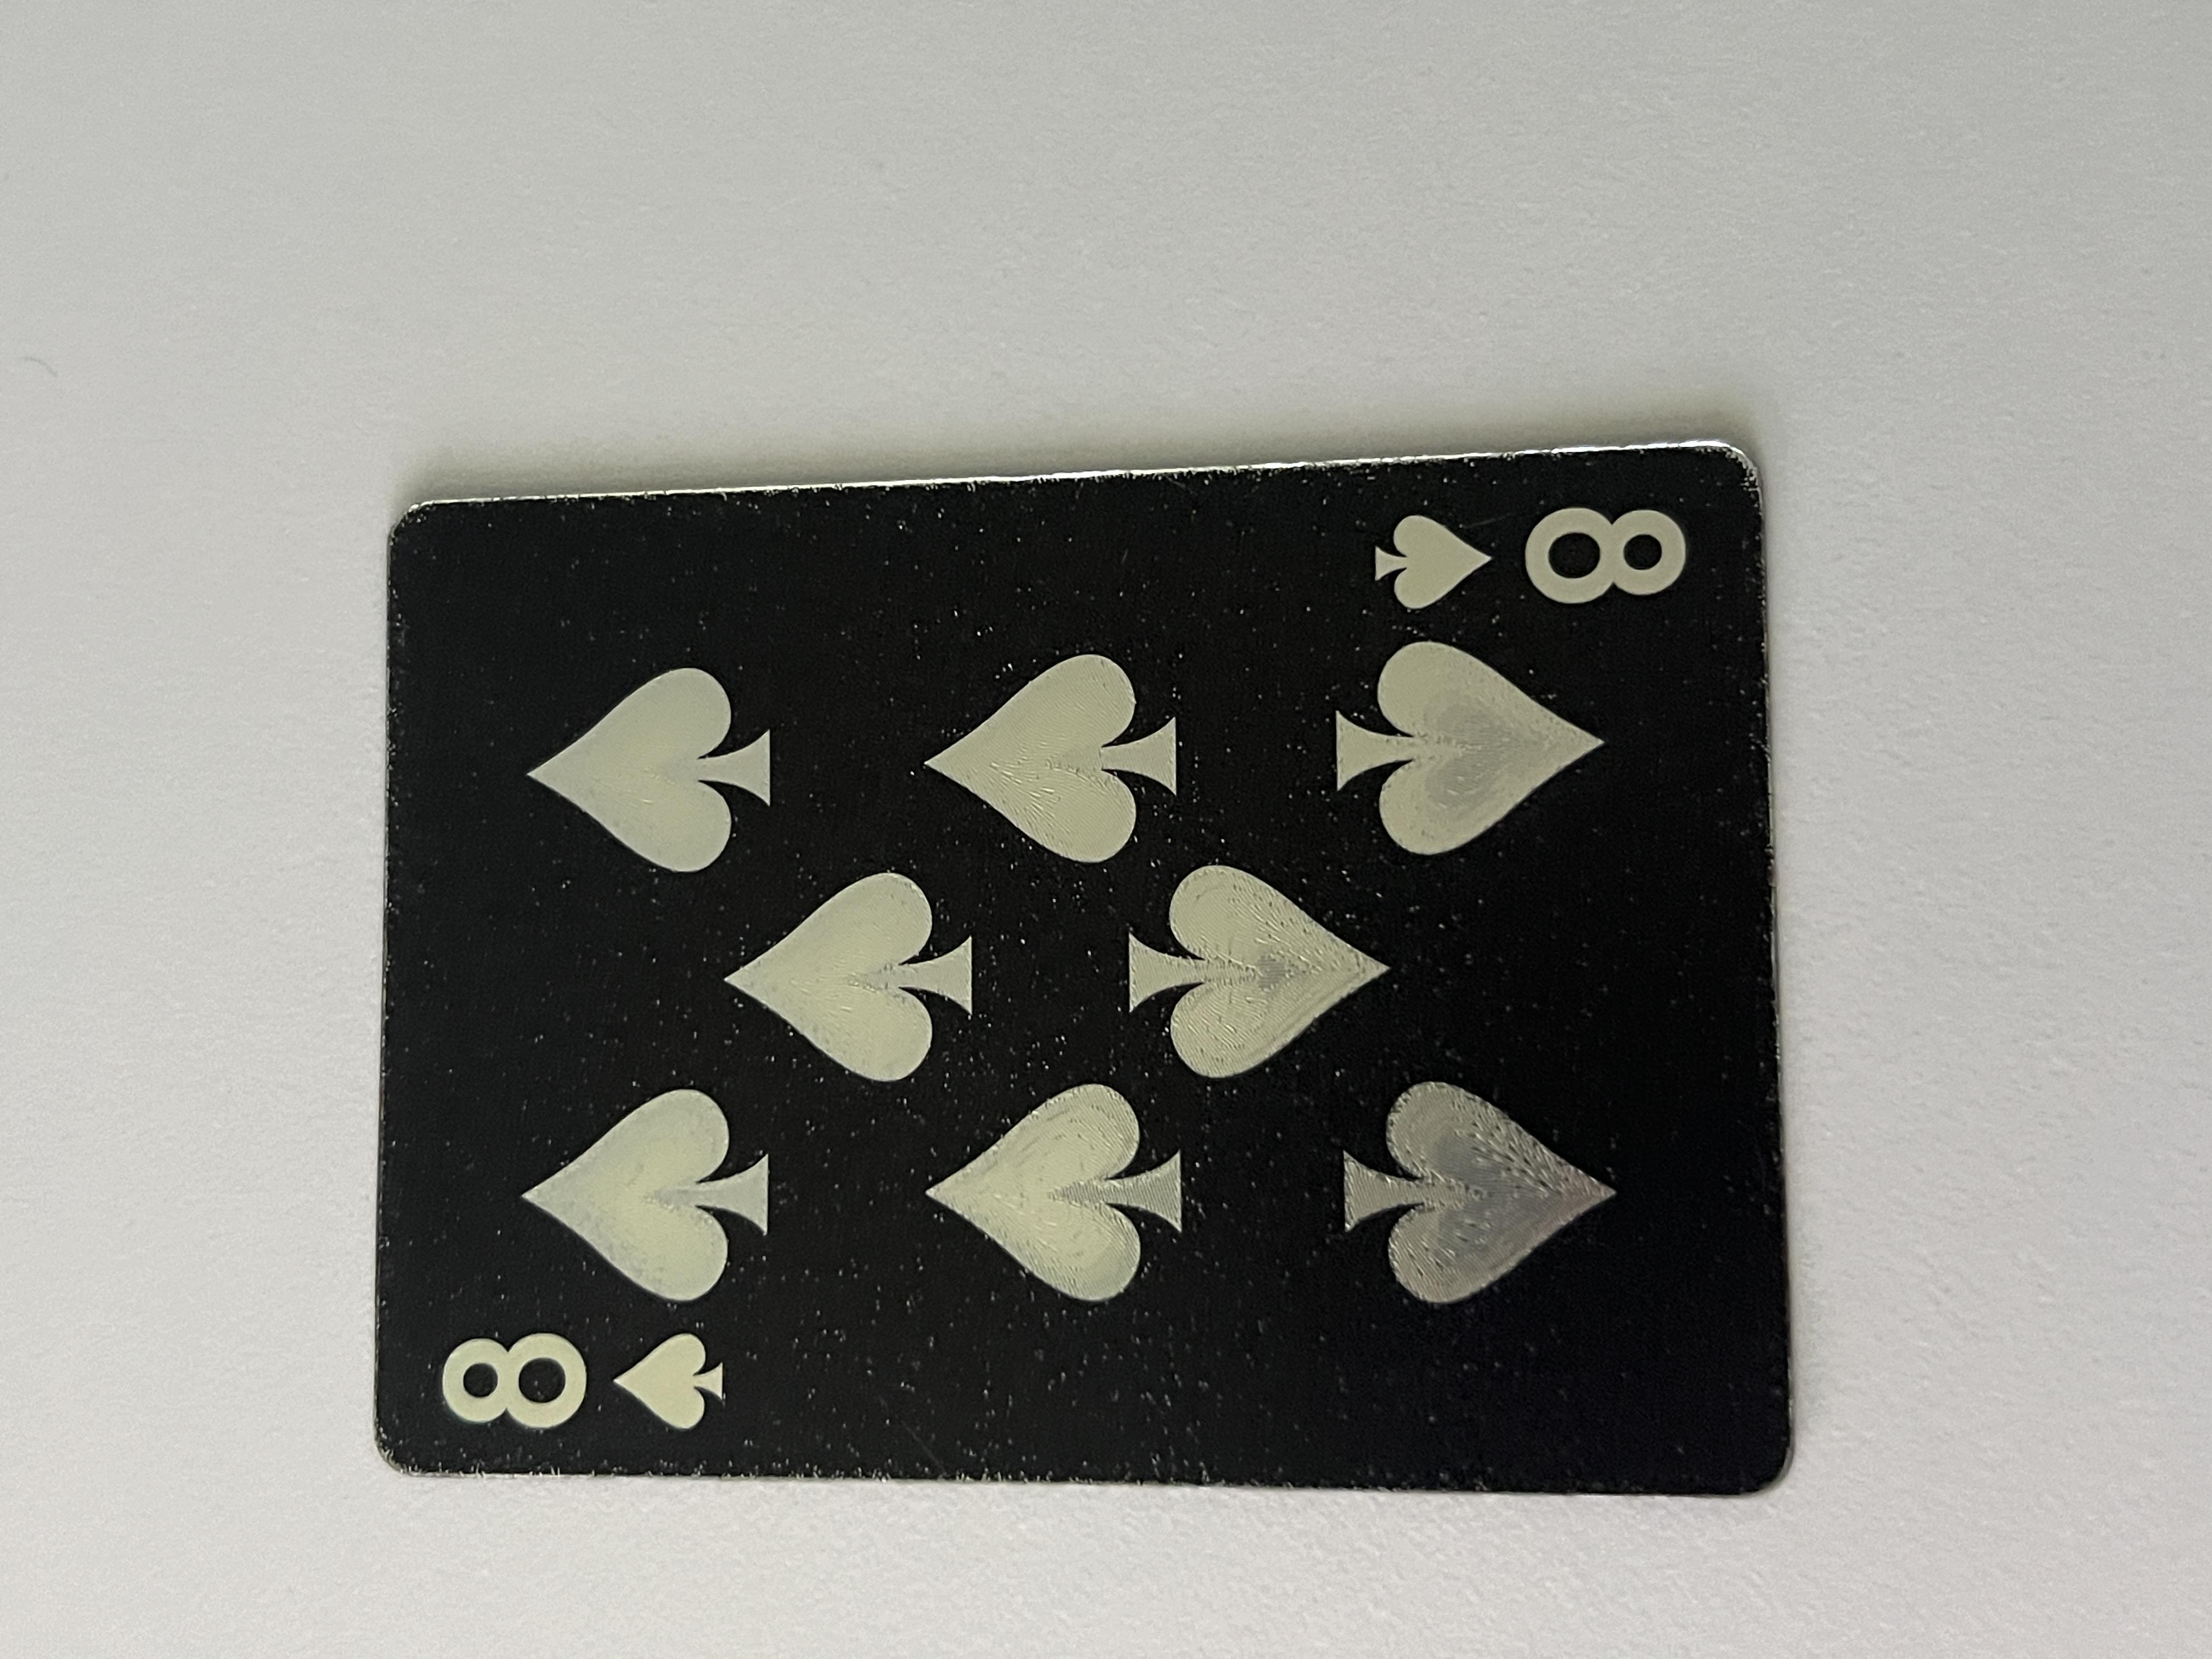8S: (1379, 1014, 1580, 1277), (286, 322, 465, 561)
